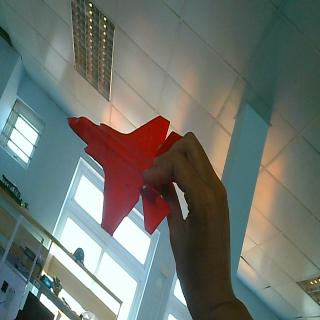Jet: (65, 110, 171, 239)
